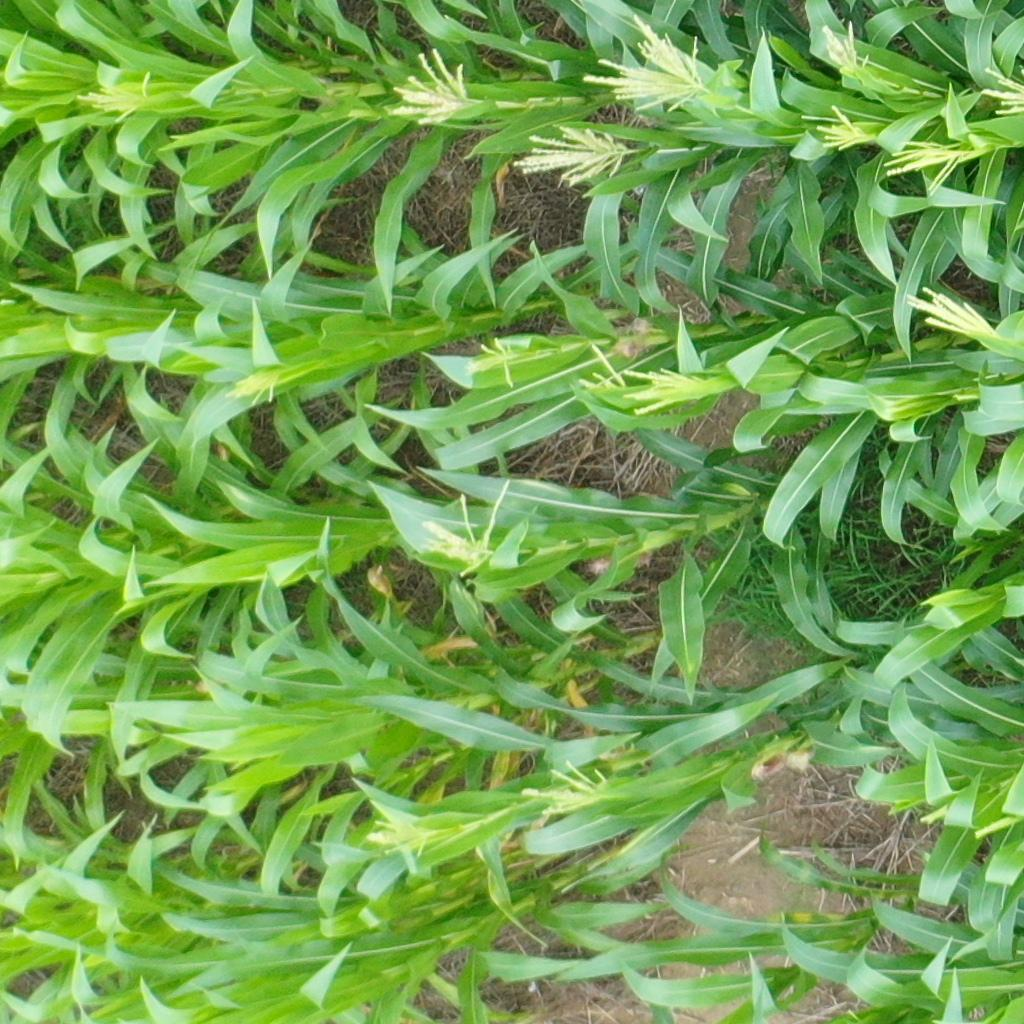Tassel: (582, 8, 714, 111), (411, 475, 510, 579), (580, 345, 715, 417), (510, 118, 631, 190), (361, 802, 511, 856), (389, 42, 474, 129), (898, 280, 1003, 345), (883, 132, 972, 199), (520, 756, 610, 816), (79, 67, 153, 123), (810, 17, 871, 84), (807, 102, 878, 155), (471, 335, 527, 388), (977, 62, 1024, 119), (226, 370, 282, 405), (917, 797, 949, 832), (971, 816, 1019, 838)
